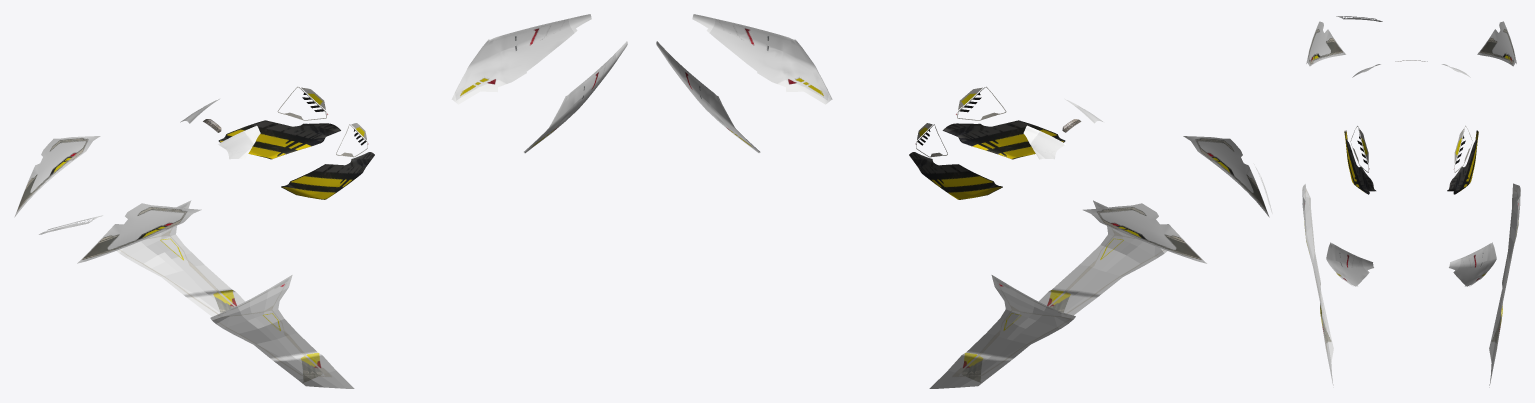
Rendered from XMR_Textures.fbx.
3 views of the same model, side by side, from view 1: azimuth 30°, elevation 25°; view 2: azimuth 150°, elevation 25°; view 3: azimuth 270°, elevation 25° (orthographic). The views are drawn at different scales.
Visible parts, largest first — view 1: polySurface553.004, polySurface560.001, polySurface553.003, polySurface553.002, polySurface553.007, polySurface553.008, polySurface553.001, polySurface560.002, polySurface677.002; view 2: polySurface553.003, polySurface560.002, polySurface553.004, polySurface553.001, polySurface553.008, polySurface553.007, polySurface553.002, polySurface560.001, polySurface677.001; view 3: polySurface553.003, polySurface553.004, polySurface560.002, polySurface560.001, polySurface553.001, polySurface553.002, polySurface553.008, polySurface553.007, polySurface553.006, polySurface553.005.
Part boxes in pixels (x1=…): polySurface553.004: x1=210, y1=275, x2=354, y2=388; polySurface560.001: x1=451, y1=14, x2=591, y2=104; polySurface553.003: x1=116, y1=200, x2=244, y2=316; polySurface553.002: x1=77, y1=203, x2=201, y2=263; polySurface553.007: x1=218, y1=120, x2=340, y2=159; polySurface553.008: x1=281, y1=152, x2=374, y2=199; polySurface553.001: x1=14, y1=136, x2=100, y2=217; polySurface560.002: x1=524, y1=41, x2=627, y2=153; polySurface677.002: x1=218, y1=125, x2=260, y2=159; polySurface553.003: x1=929, y1=275, x2=1075, y2=388; polySurface560.002: x1=692, y1=14, x2=832, y2=104; polySurface553.004: x1=1039, y1=200, x2=1167, y2=315; polySurface553.001: x1=1083, y1=203, x2=1206, y2=263; polySurface553.008: x1=942, y1=120, x2=1065, y2=159; polySurface553.007: x1=909, y1=152, x2=1002, y2=199; polySurface553.002: x1=1183, y1=136, x2=1269, y2=217; polySurface560.001: x1=656, y1=41, x2=760, y2=152; polySurface677.001: x1=1023, y1=125, x2=1065, y2=159; polySurface553.003: x1=1489, y1=183, x2=1520, y2=387; polySurface553.004: x1=1302, y1=184, x2=1333, y2=387; polySurface560.002: x1=1326, y1=242, x2=1373, y2=286; polySurface560.001: x1=1449, y1=242, x2=1496, y2=286; polySurface553.001: x1=1477, y1=21, x2=1516, y2=66; polySurface553.002: x1=1306, y1=21, x2=1345, y2=66; polySurface553.008: x1=1344, y1=130, x2=1375, y2=194; polySurface553.007: x1=1447, y1=130, x2=1478, y2=194; polySurface553.006: x1=1350, y1=126, x2=1369, y2=172; polySurface553.005: x1=1453, y1=125, x2=1472, y2=172.
Size of the model in its own units: 473 by 207 by 146.
